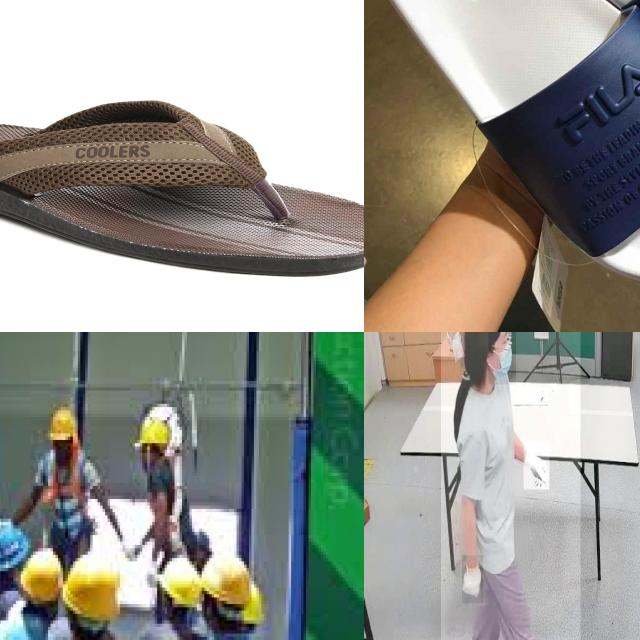Harness: (38, 439, 87, 512), (149, 456, 183, 548)
Sandals: (364, 0, 640, 297), (0, 98, 364, 279)
face_mask: (488, 332, 515, 384)
hand_glove: (524, 440, 550, 490), (462, 556, 484, 604)
person: (441, 332, 581, 640)
